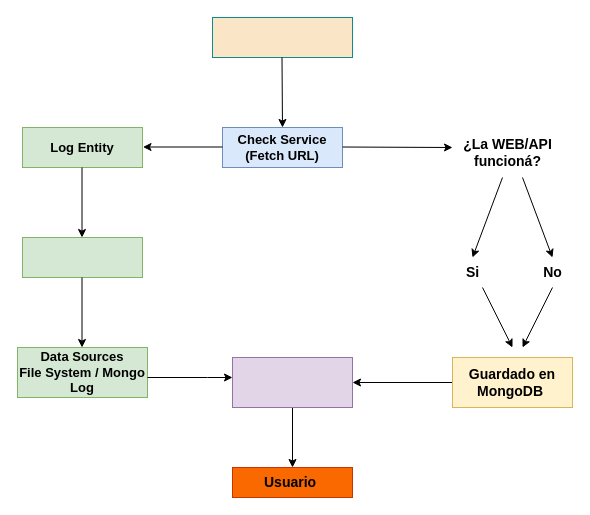
The diagram is 590 pixels wide and 515 high, and some of its shapes have lost their labels. The centre of each missing label's shape, as x and y in pixels:
"Log Repository (SAVE/GET log)" goes at (x=82, y=257).
"Send Email Logs (Nodemailer)" goes at (x=292, y=382).
"Servicio Externo (API/URL)" goes at (x=282, y=37).
